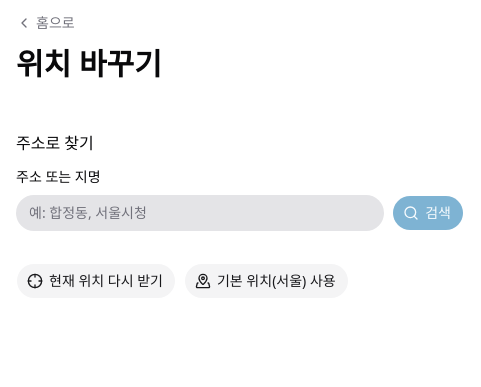
Test case: LocationScreen: 주소 검색 › 검색이 실패하면 오류를 알리고 다시 시도할 수 있다
Step 1. Type "서울시청" into the field labelled "주소 또는 지명" → (200, 212), box [16, 194, 384, 230]
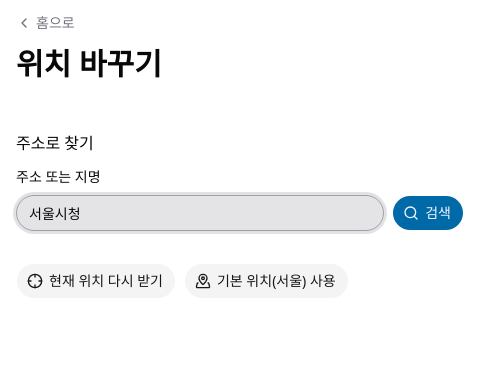
Step 2. Click the button "검색" → (428, 212), box [392, 194, 464, 230]
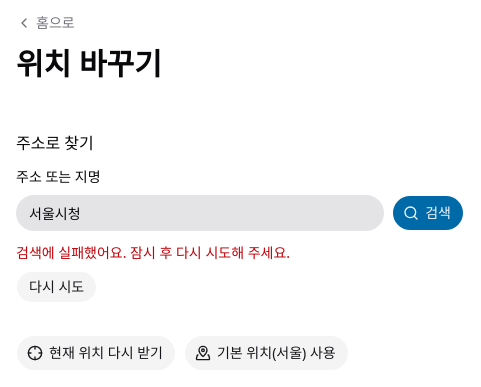
Expected: the message shows "검색에 실패했어요", [16, 242, 290, 262]
Step 3. Click the button "다시 시도" → (57, 286), box [16, 270, 97, 302]
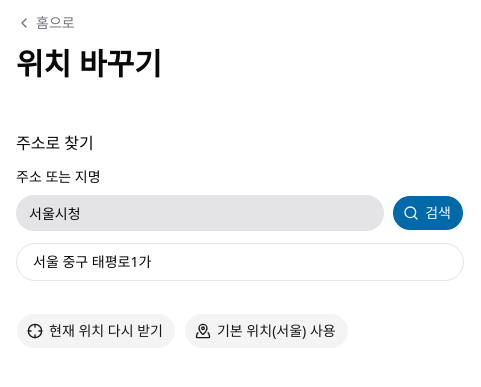
Expected: the button "서울 중구 태평로1가" is shown, [16, 242, 464, 280]
